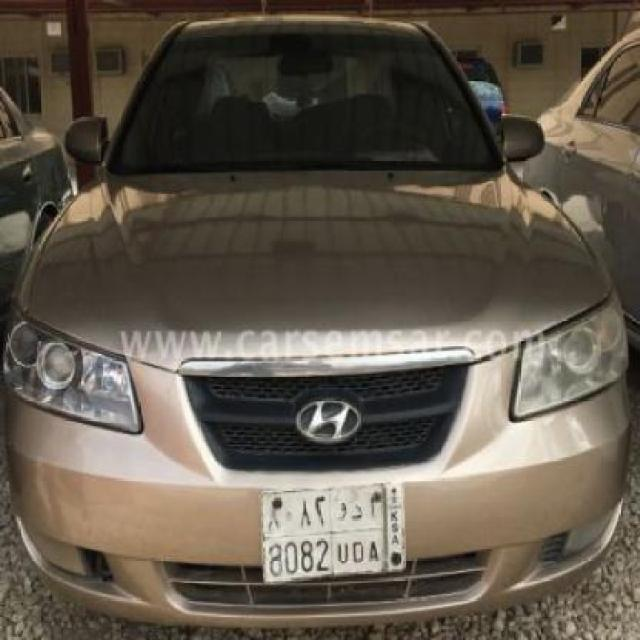license_plate: (258, 474, 408, 588)
